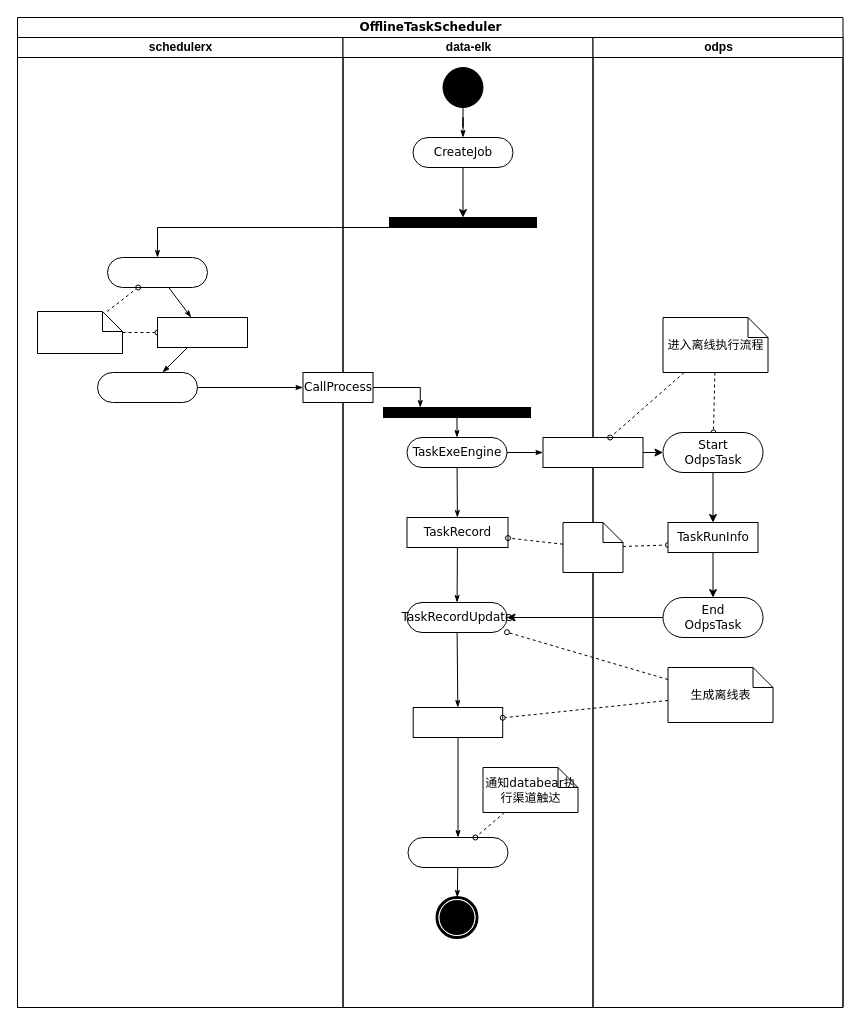
This 861x1025 diagram has some shape labels left out. The shapes that lost their labels are listed below. From the top down, each one's box as (x1, y1, x2, y2) in pixels, then its label:
(106, 256, 208, 288): GenJobTask
(36, 310, 122, 354): 创建工作项后由schedulerx进行调度
(156, 316, 248, 348): CronTaskInfo
(96, 372, 198, 402): ExecuteJobTask
(542, 436, 643, 468): OdpsTaskInfo
(562, 522, 623, 572): Loop
(412, 706, 503, 738): OdpsTableMeta
(407, 836, 508, 868): NotifyDataBear
